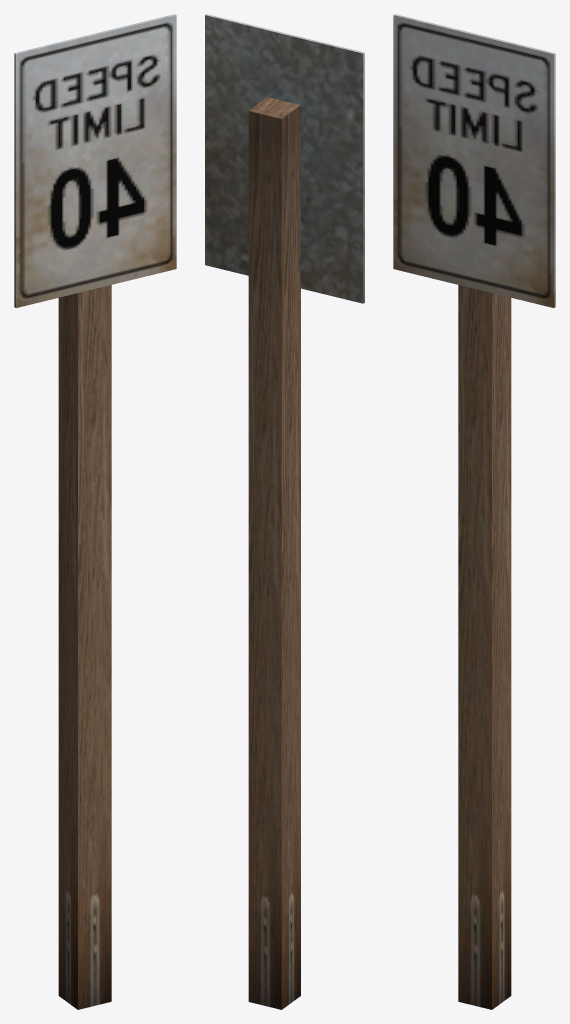
The model's file is 40mph_wood.fbx.
The picture shows the model from 3 angles, left to right: view 1: azimuth 30°, elevation 25°; view 2: azimuth 150°, elevation 25°; view 3: azimuth 330°, elevation 25°; orthographic projection.
Visible parts, largest first — view 1: mesh_0, mesh_1; view 2: mesh_1, mesh_0; view 3: mesh_0, mesh_1.
Boxes of the visible parts, <box> form: mesh_0: <box>14,14,176,307</box>; mesh_1: <box>58,285,111,1009</box>; mesh_1: <box>248,97,300,1009</box>; mesh_0: <box>205,14,364,303</box>; mesh_0: <box>393,14,555,307</box>; mesh_1: <box>458,285,511,1009</box>.
Size of the model in its own units: 44.43 by 257 by 10.03.
Materials: 2 (2 with a texture image).
